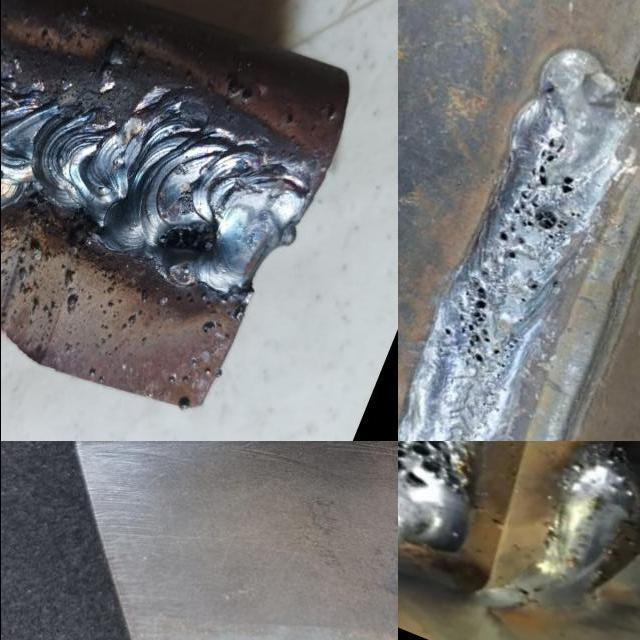defect: (493, 127, 580, 264), (439, 274, 505, 371), (155, 219, 214, 255), (522, 274, 542, 299), (176, 190, 195, 214)
